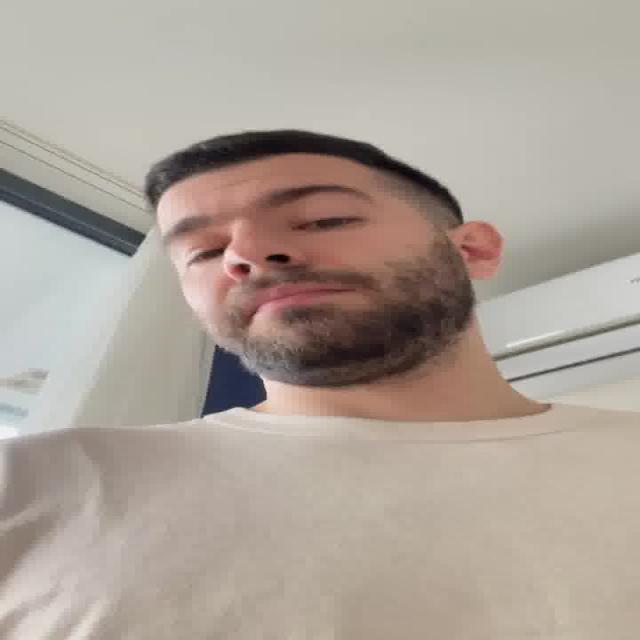earlobe: (460, 264, 500, 282)
eye: (287, 213, 372, 236), (178, 247, 226, 269)
nose: (225, 268, 321, 286)
wholeear: (456, 220, 507, 280)
